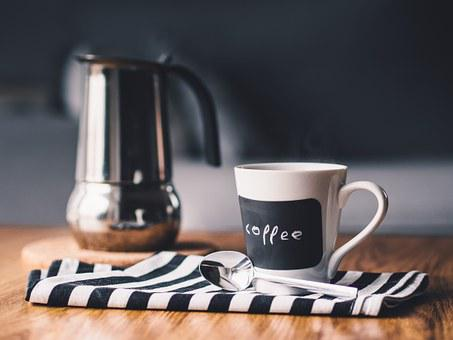cup: (232, 155, 392, 300)
